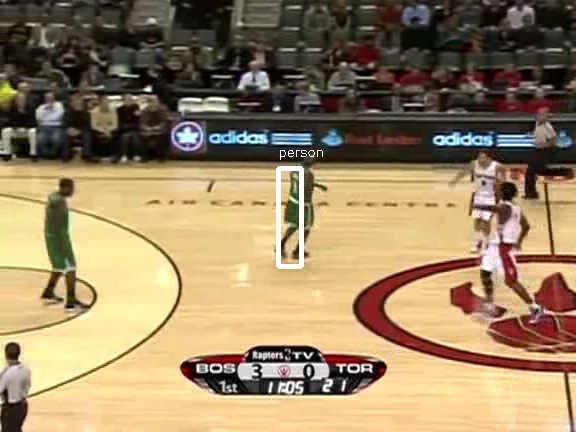person: (283, 159, 317, 240), (282, 159, 316, 240), (284, 159, 318, 240), (283, 158, 317, 239), (283, 160, 317, 241)
target_negative: (120, 230, 449, 366), (264, 205, 446, 251), (314, 262, 341, 302), (537, 382, 564, 422), (544, 373, 566, 402), (558, 408, 567, 409)
